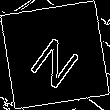N_NE: (24, 23, 86, 87)
